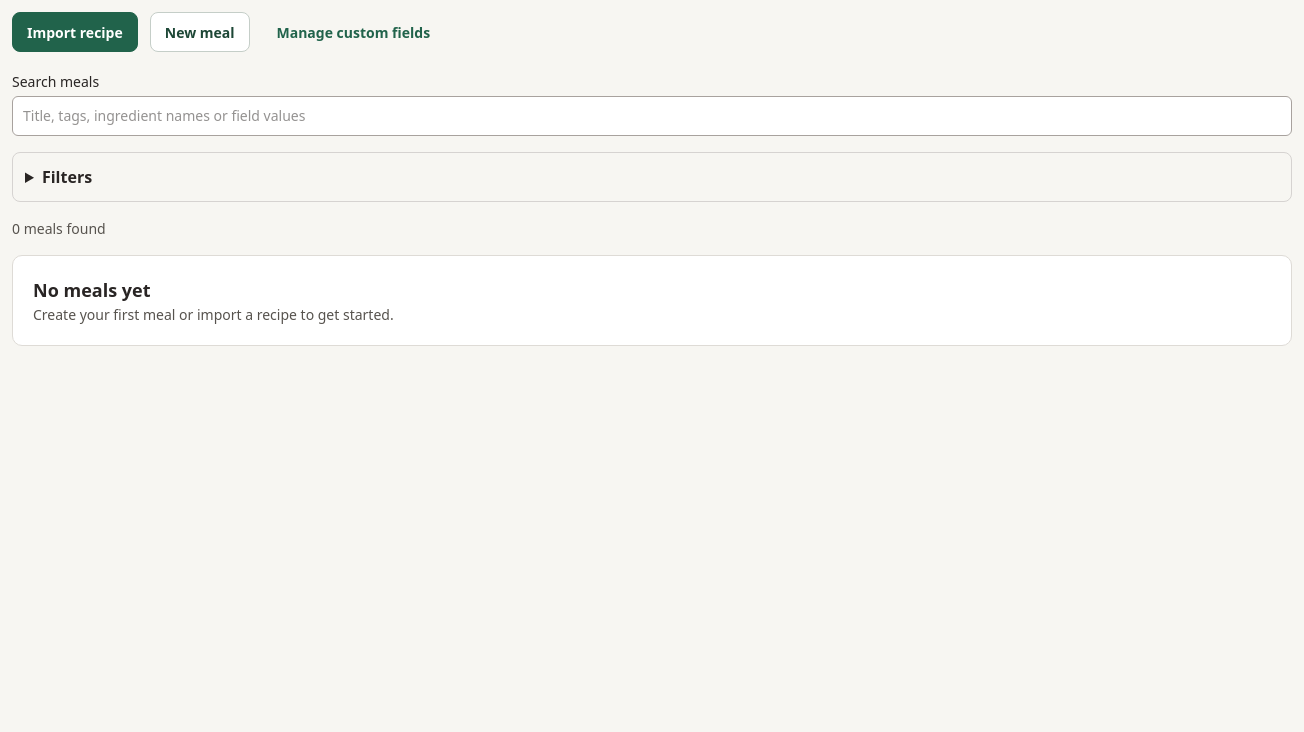
meal library workflows › keeps invalid date filters available for correction
Check: the search field labelled "Search meals" is shown, box [12,96,1292,136]
Click the heading "Filters" at coordinates (67, 177), box [42,166,92,188]
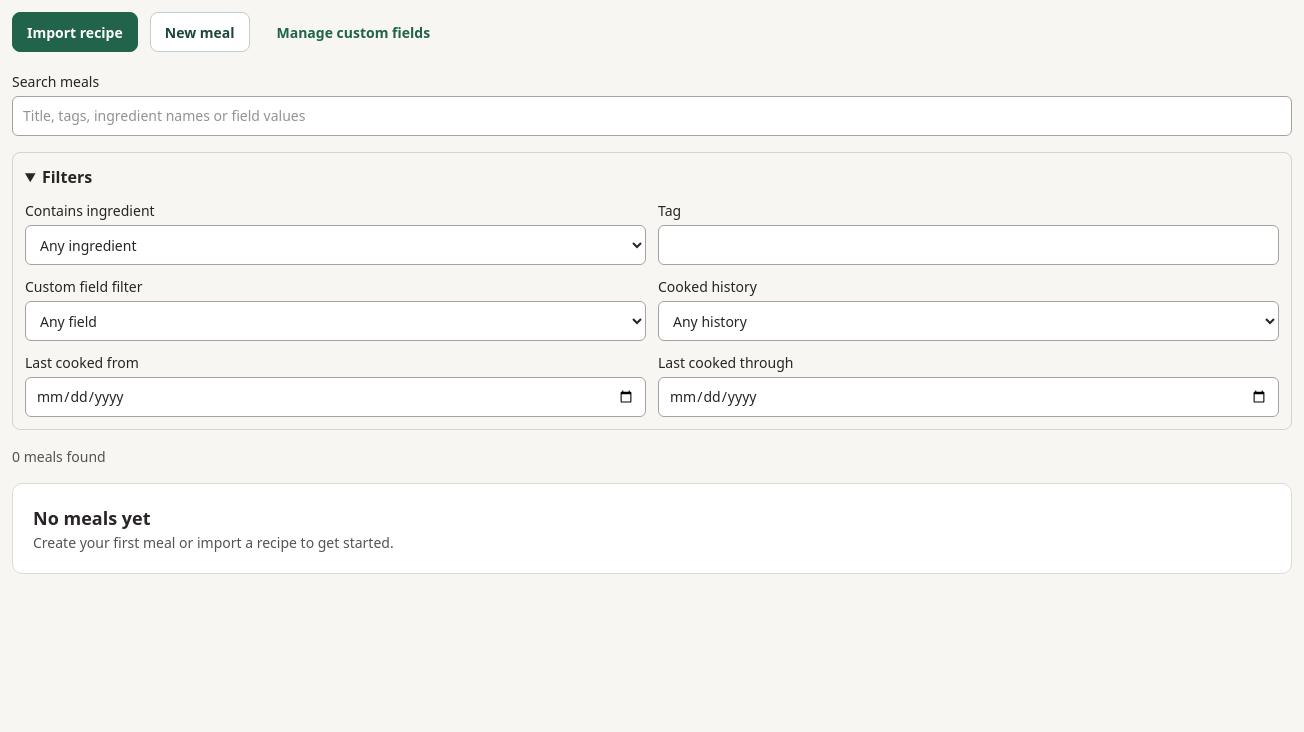
Type "2026-10-11" into the date field labelled "Last cooked from" at coordinates (336, 397), box [25,377,646,417]
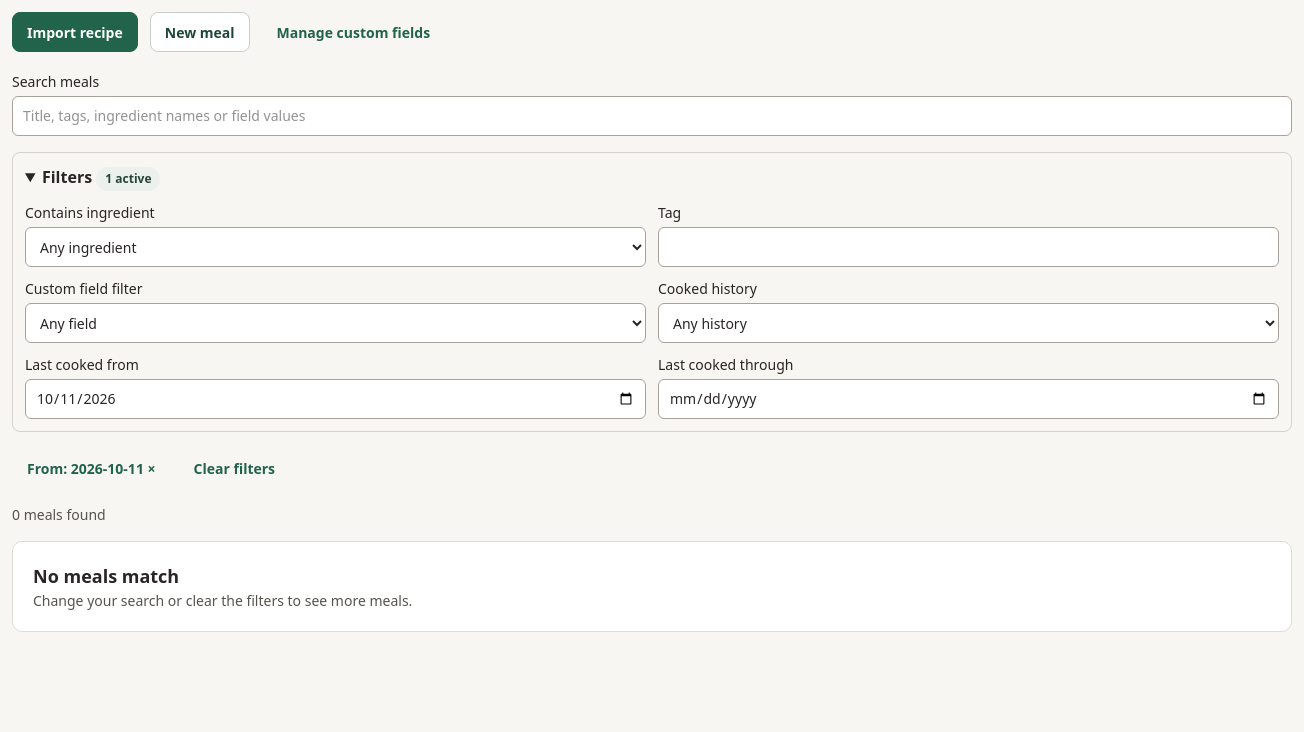
Type "2026-10-10" into the date field labelled "Last cooked through" at coordinates (968, 399), box [658,379,1279,419]
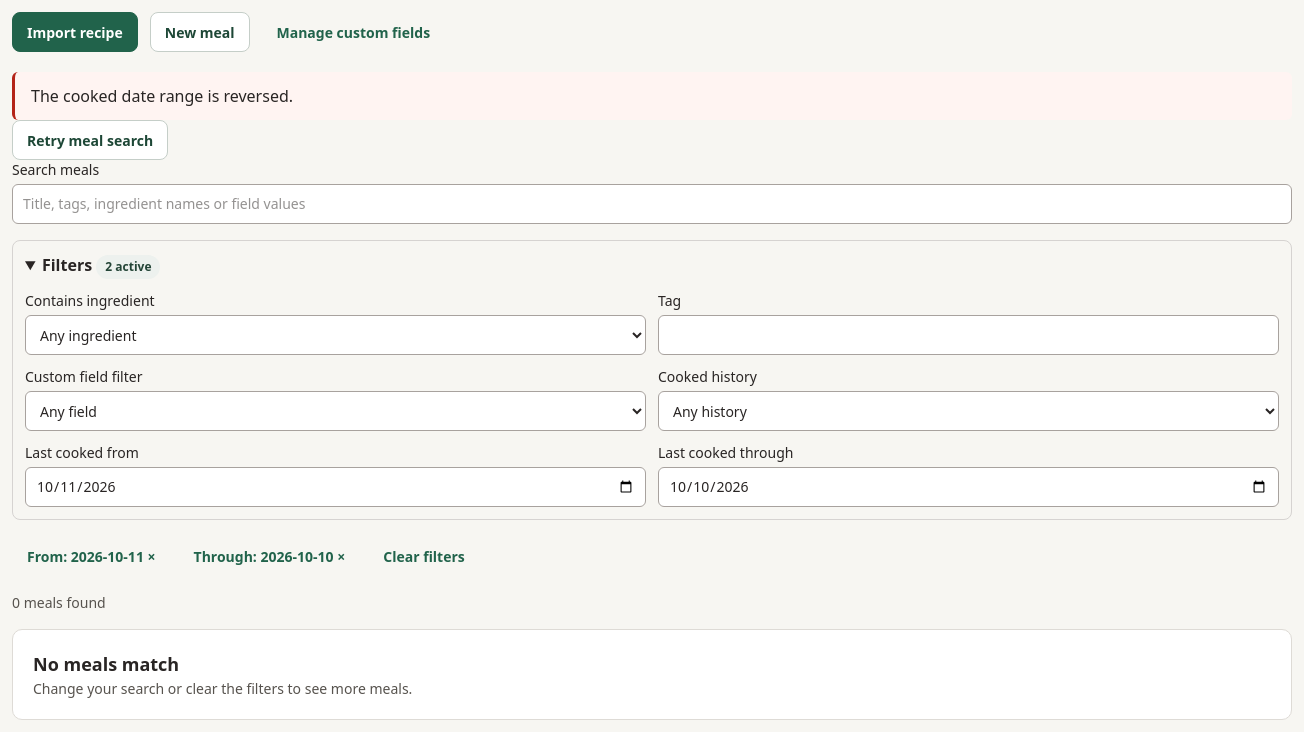
Check: the message "The cooked date range is reversed." is shown, box [12,72,1292,120]
Click the button "Clear filters" at coordinates (424, 556), box [368,536,480,576]
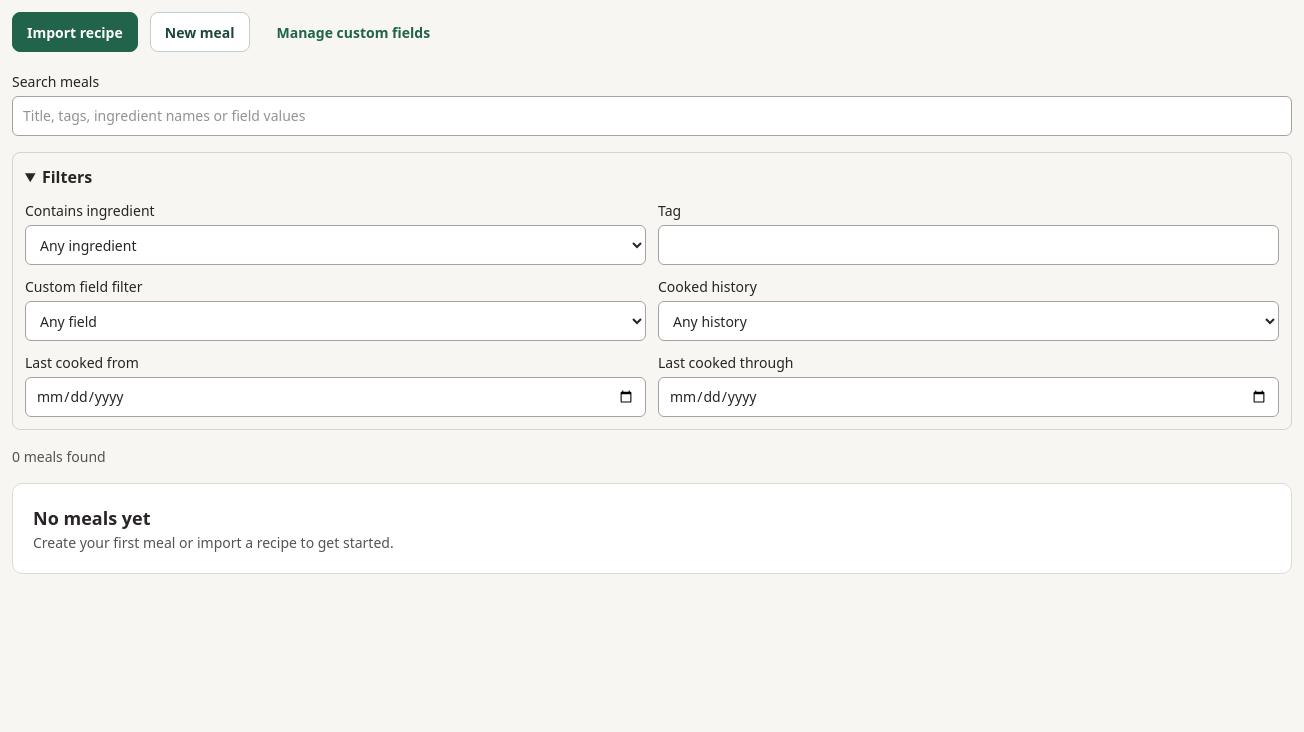
Check: the message "The cooked date range is reversed." is gone
